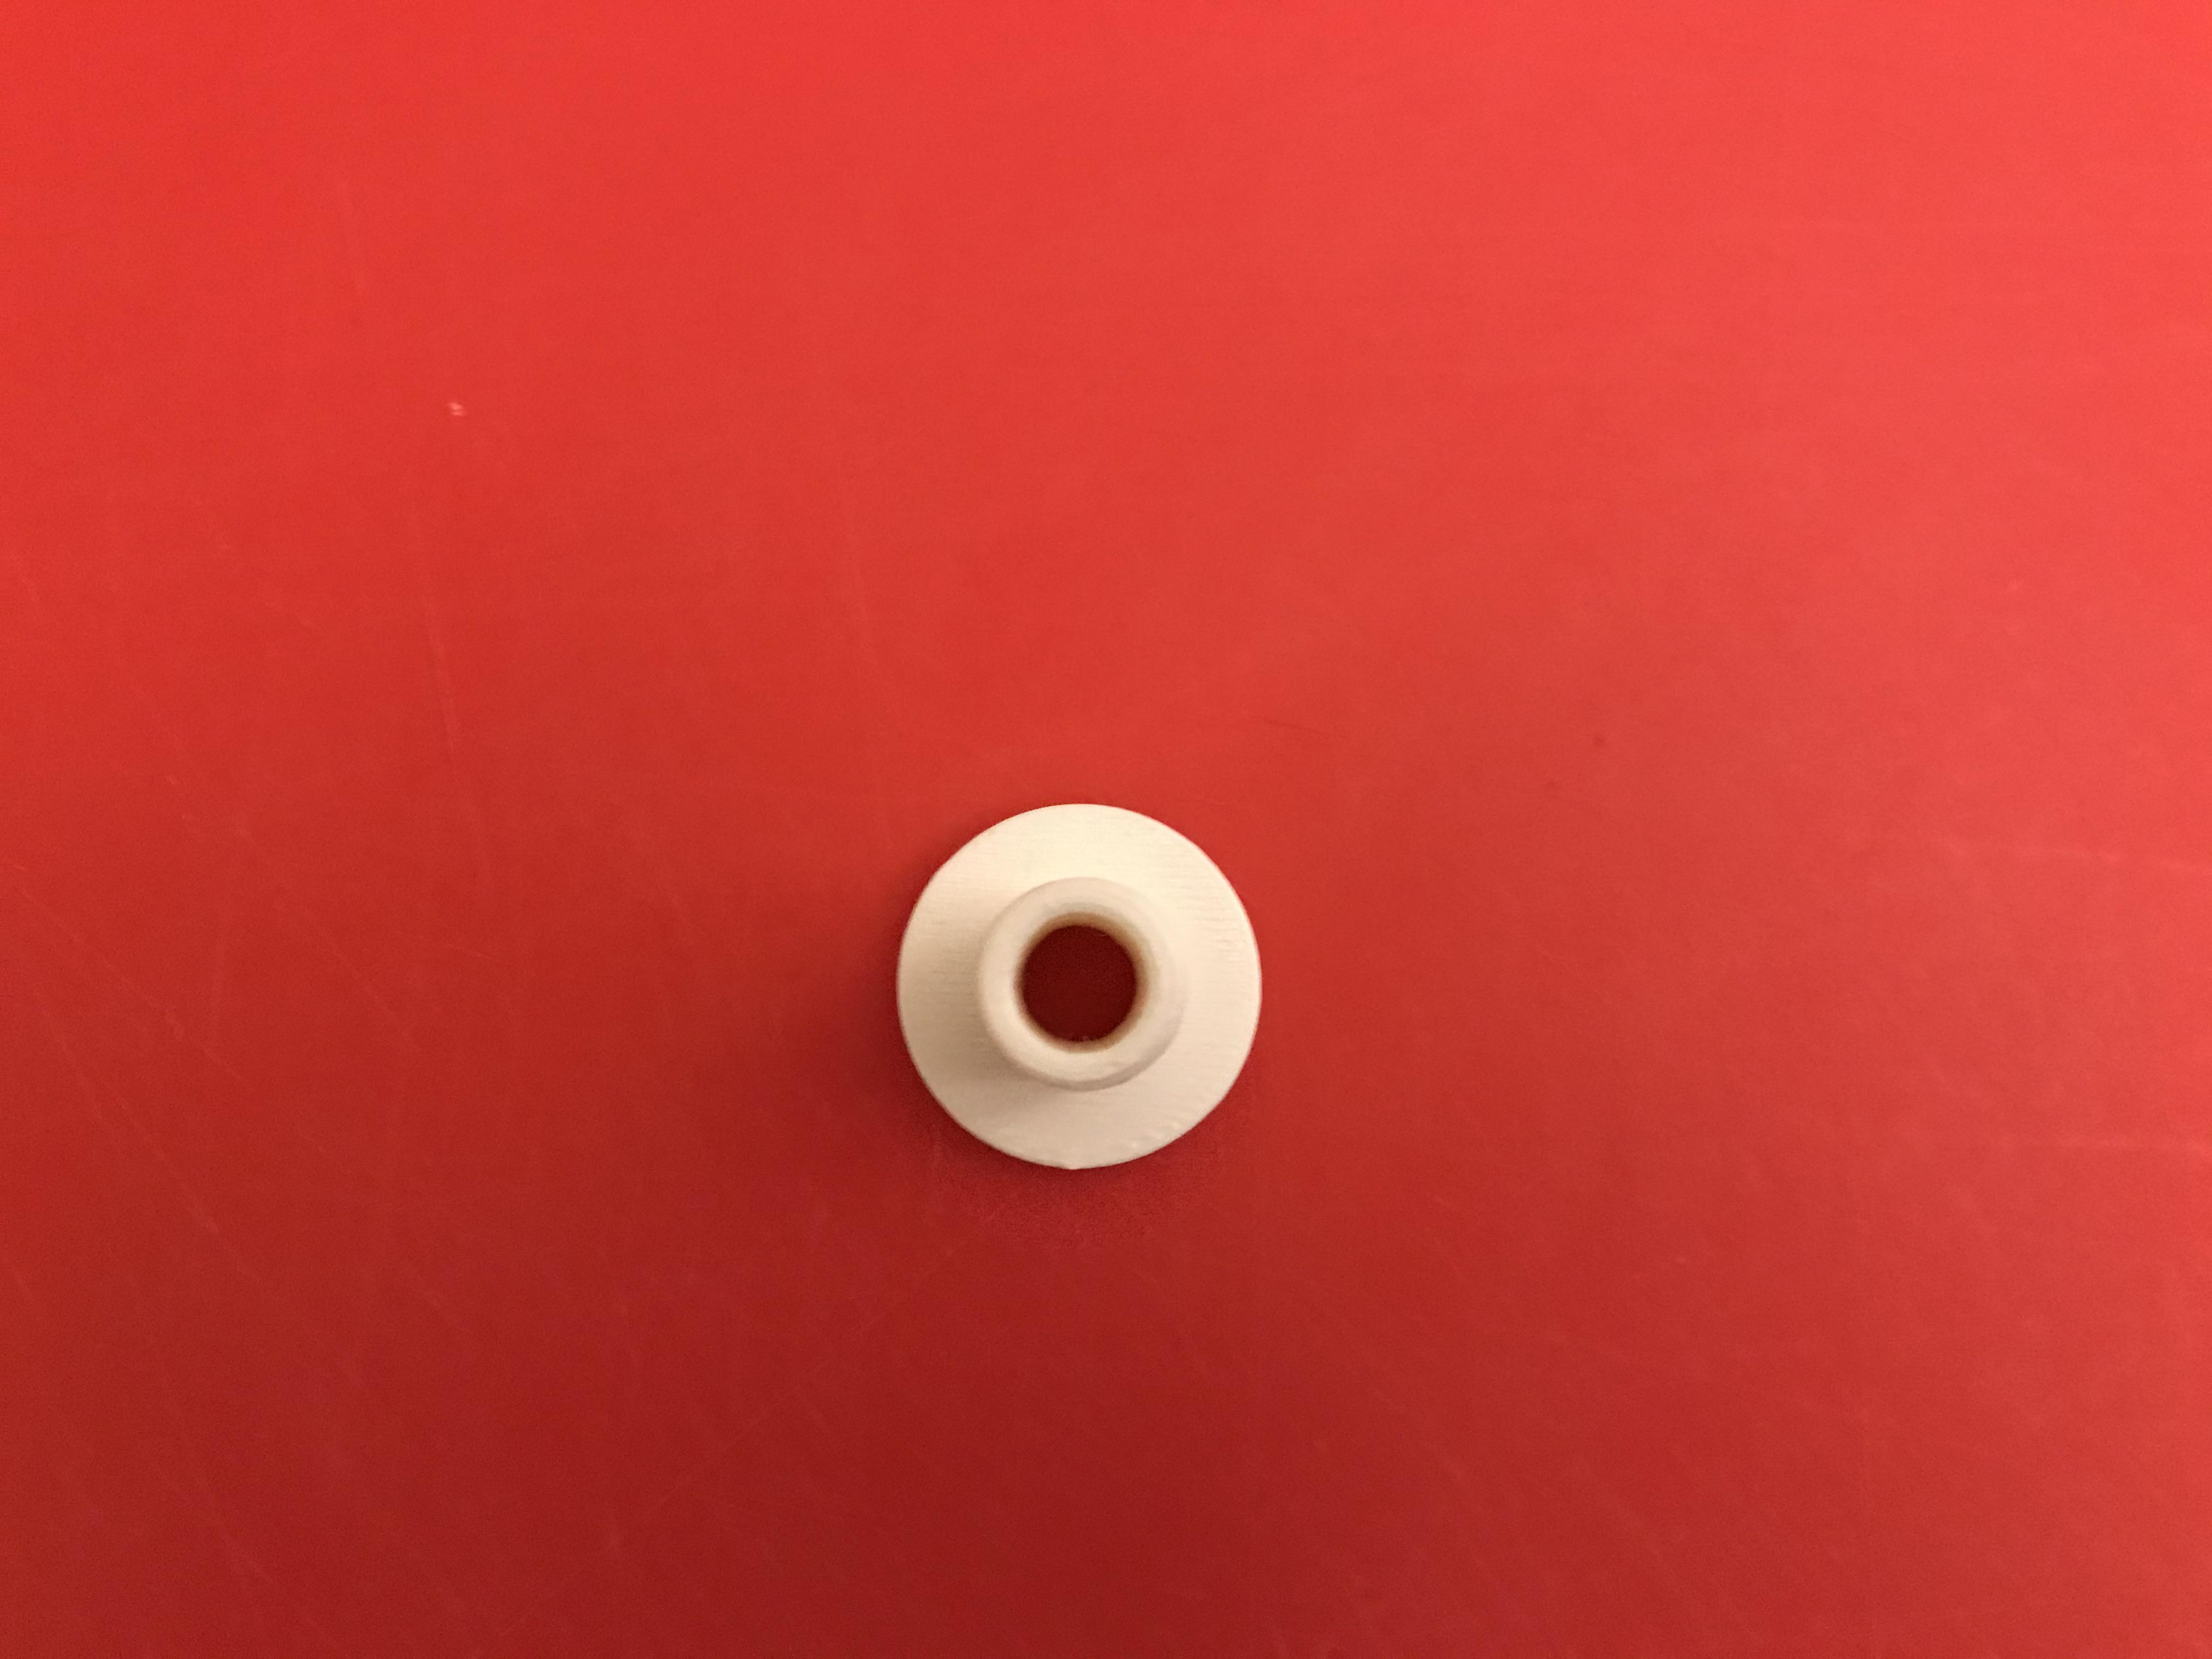White Cone: (876, 795, 1271, 1182)
